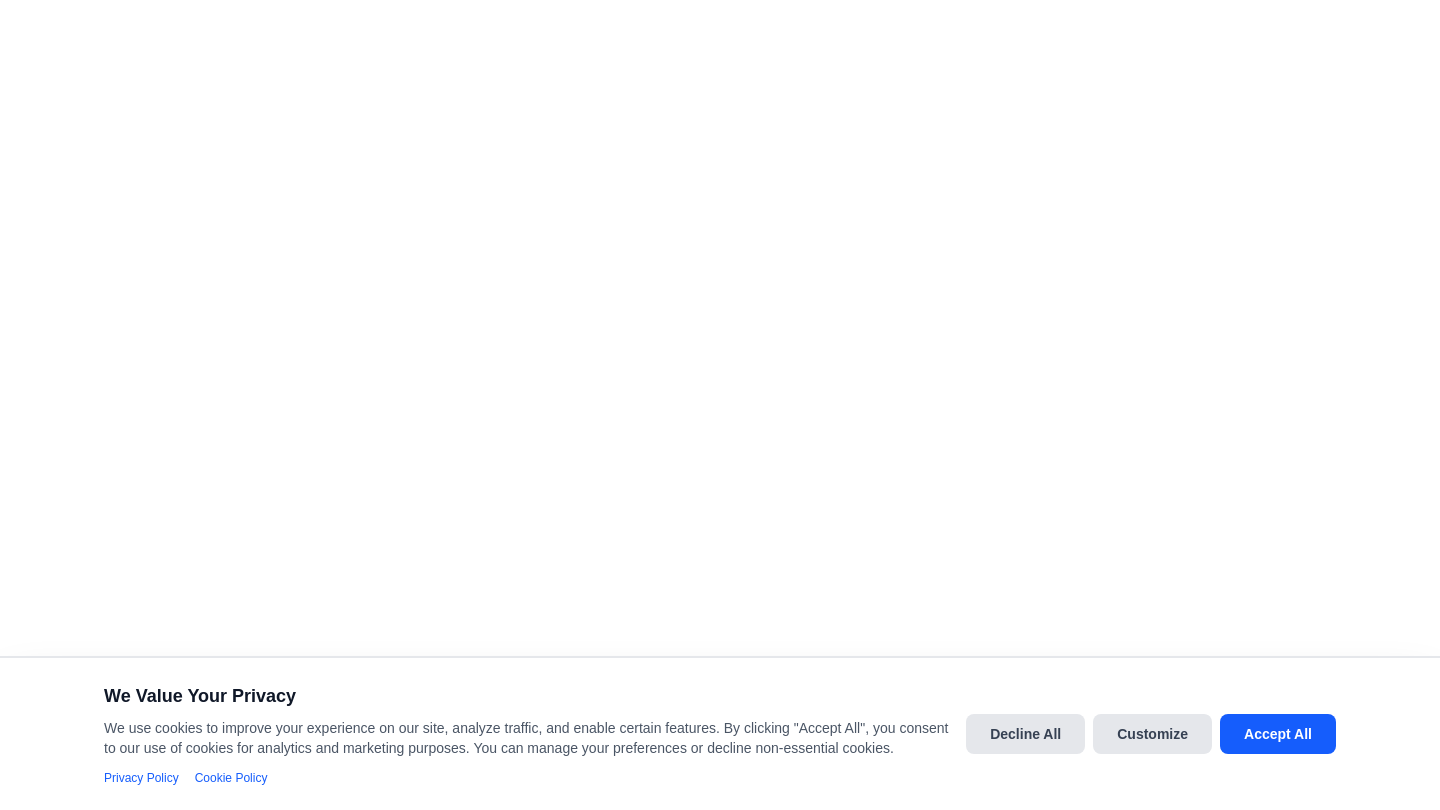
Test: CookieConsent component › should close preferences modal on Escape key
Click the button "Customize". click: x=1153, y=734
box: [1093,714,1212,754]
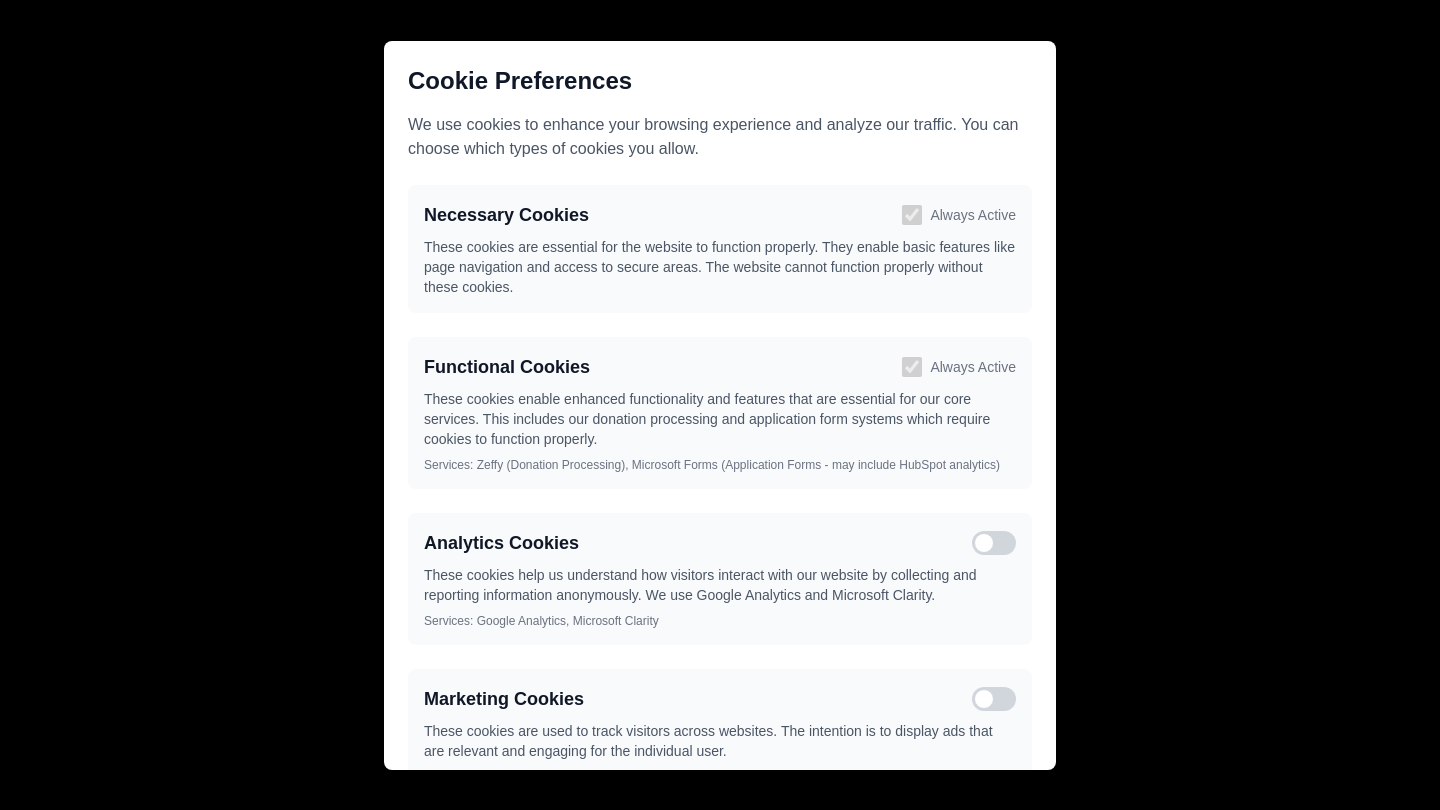
Expected: the heading "Cookie Preferences" is shown, [408,66,632,94]
Press Escape
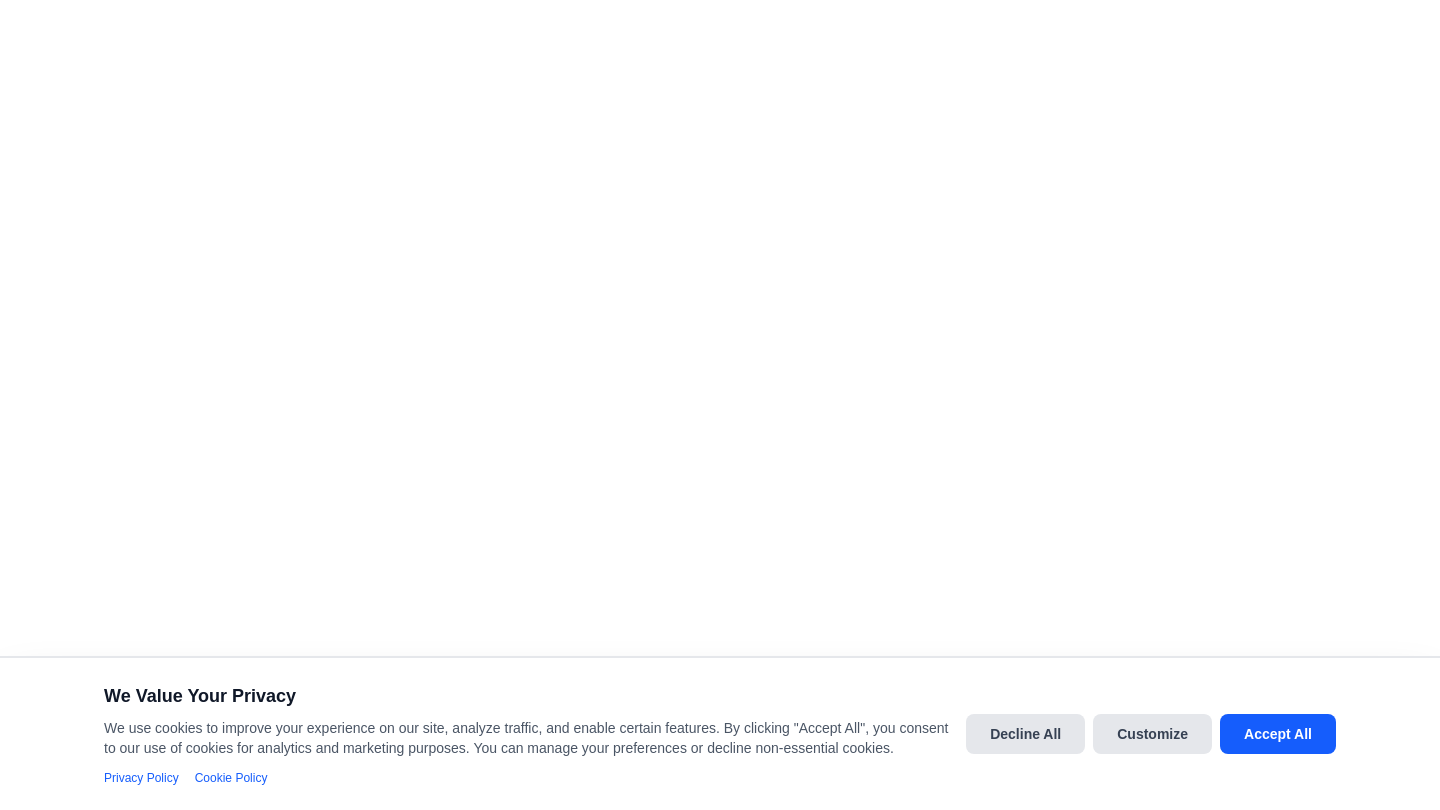
Expected: the heading "Cookie Preferences" is gone
